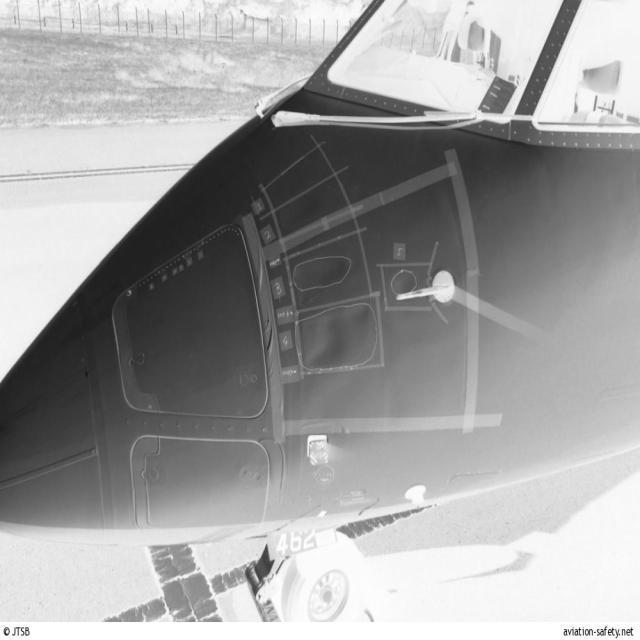dent: (304, 306, 373, 372), (304, 259, 354, 301), (390, 275, 416, 306)
